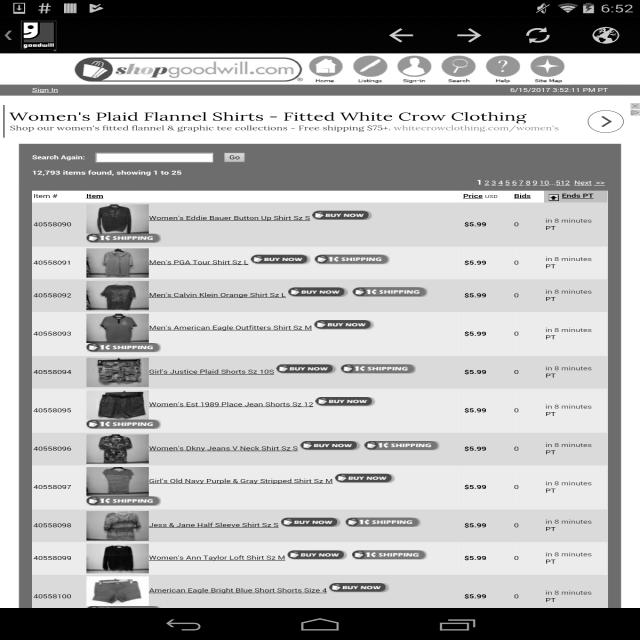Button: (224, 153, 245, 162)
EditText: (95, 153, 213, 162)
ImageView: (14, 19, 64, 52), (0, 30, 17, 41)
TextView: (571, 16, 640, 54), (435, 17, 504, 54), (503, 17, 572, 54), (367, 17, 435, 54)
